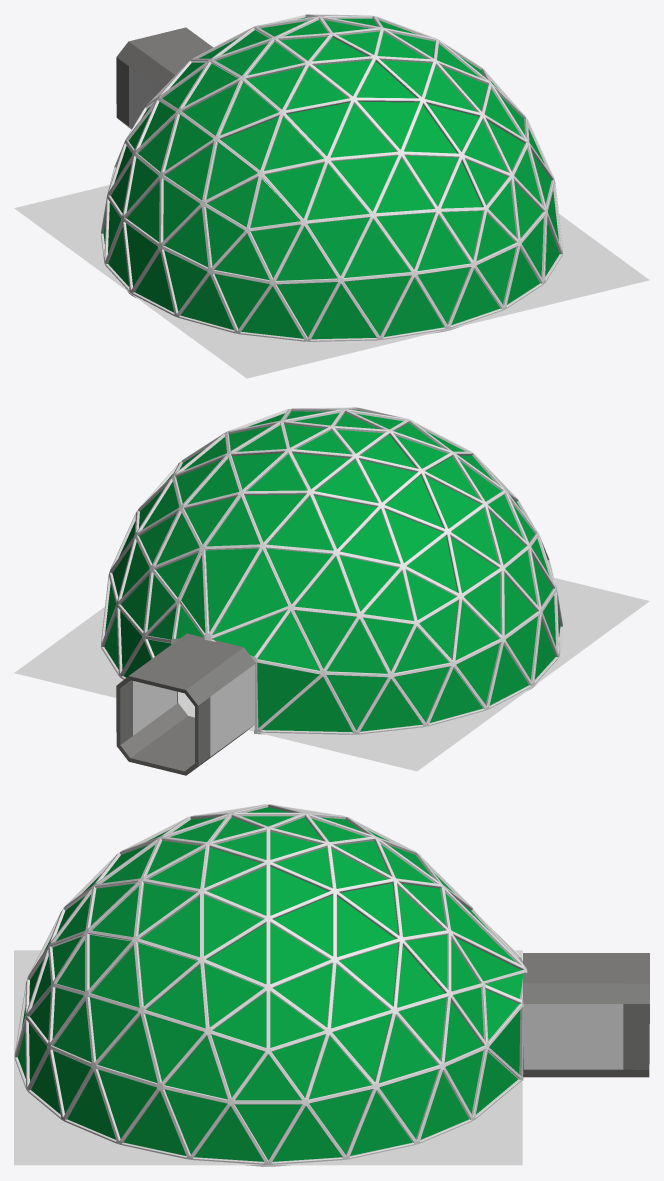
File: dome_proper.fbx
3 renders of one model, top to bottom at view 1: azimuth 30°, elevation 25°; view 2: azimuth 150°, elevation 25°; view 3: azimuth 270°, elevation 25°, orthographic. The views are drawn at different scales.
Visible parts, largest first — view 1: Sphere; view 2: Sphere; view 3: Sphere.
Boxes of the visible parts, bbox=[...] form: Sphere: bbox=[14, 14, 649, 378]; Sphere: bbox=[14, 407, 649, 775]; Sphere: bbox=[14, 804, 649, 1166].
Size of the model in its own units: 20 by 10.17 by 25.01.
